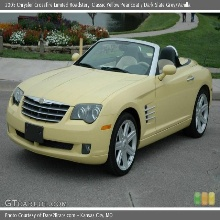no damage: (6, 36, 212, 175)
